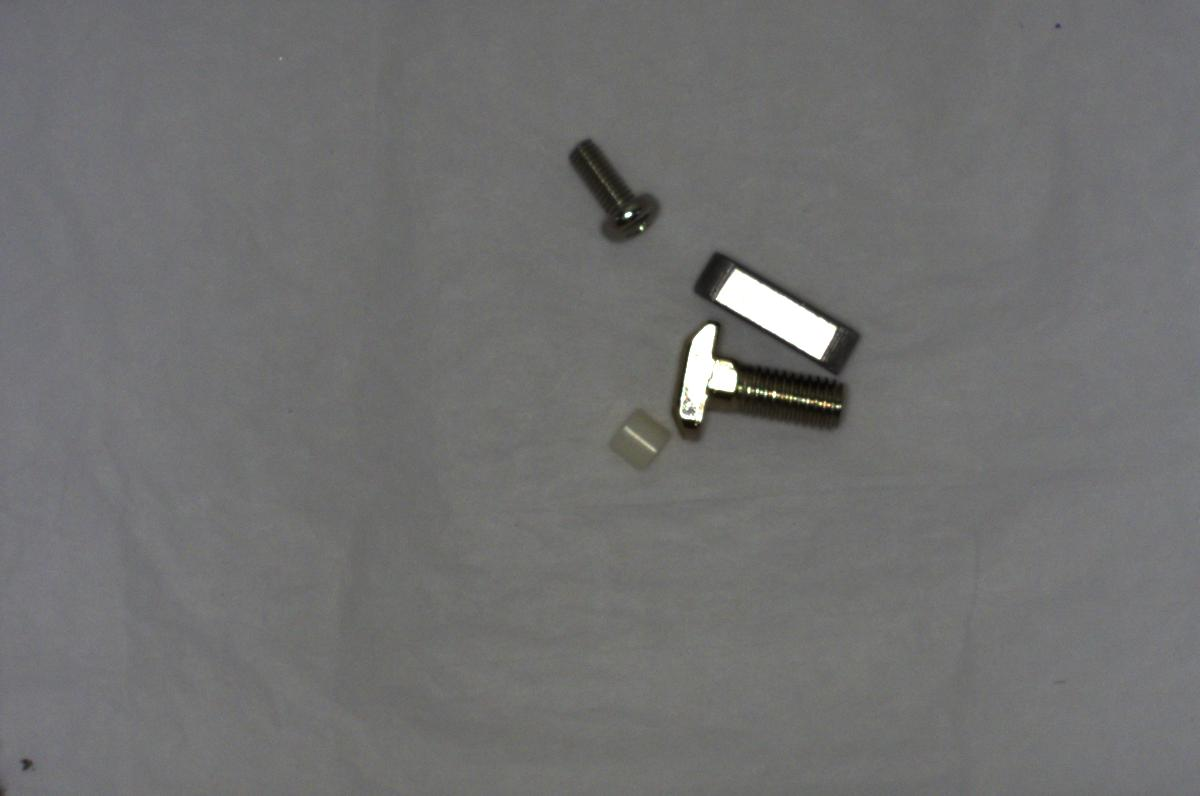Keybar: (687, 250, 865, 379)
Plastic cushion pillar: (602, 398, 678, 480)
Round head screw: (565, 130, 660, 247)
T-shaped screw: (666, 319, 865, 441)
